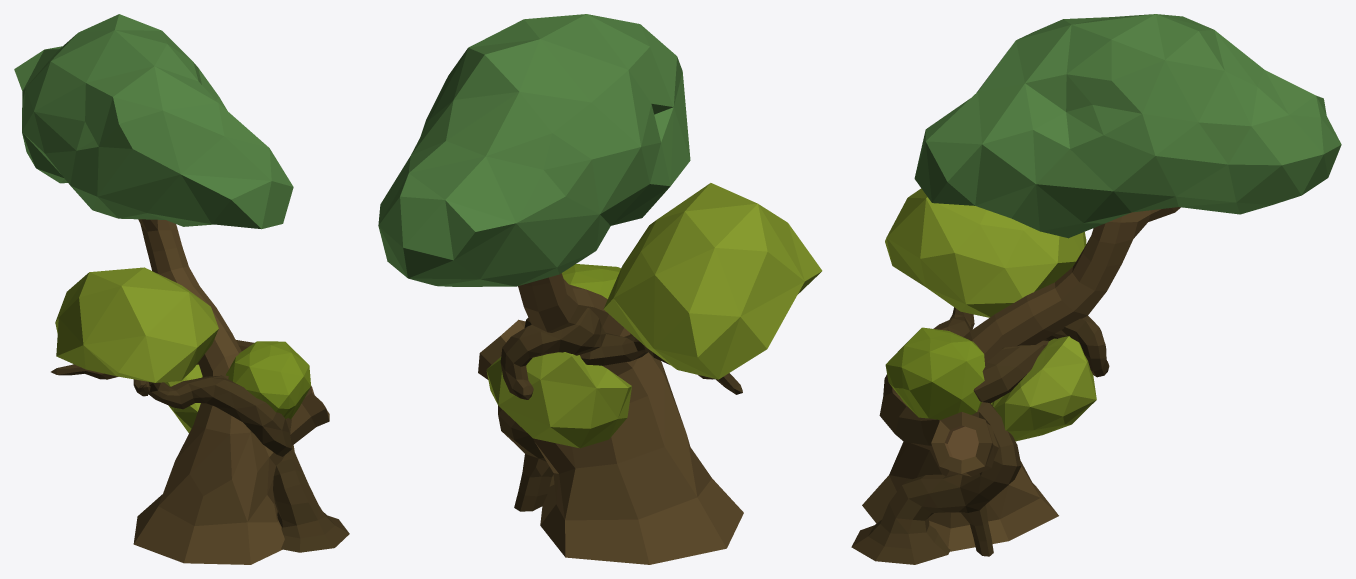
The model's file is EM_Tree3b.fbx.
3 views of the same model, side by side, from view 1: azimuth 30°, elevation 25°; view 2: azimuth 150°, elevation 25°; view 3: azimuth 270°, elevation 25° (orthographic). The views are drawn at different scales.
Parts seen in each view (by area): view 1: EM_Tree3b_LOD0; view 2: EM_Tree3b_LOD0; view 3: EM_Tree3b_LOD0.
Part boxes in pixels (x1=…): EM_Tree3b_LOD0: x1=14, y1=14, x2=349, y2=564; EM_Tree3b_LOD0: x1=378, y1=14, x2=822, y2=564; EM_Tree3b_LOD0: x1=851, y1=14, x2=1341, y2=564.
Size of what is drawn, in the model's own units: 4.05 by 6.96 by 6.29.
